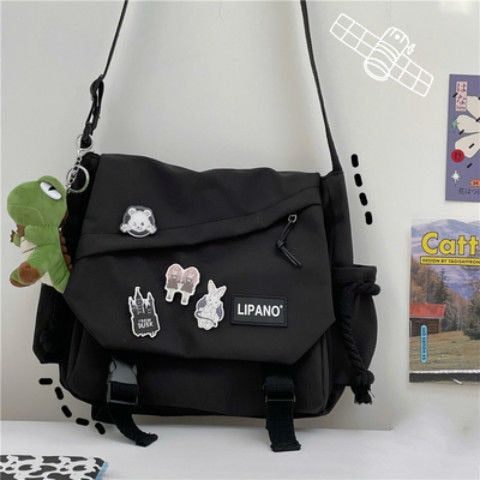nylon: (33, 153, 379, 452)
